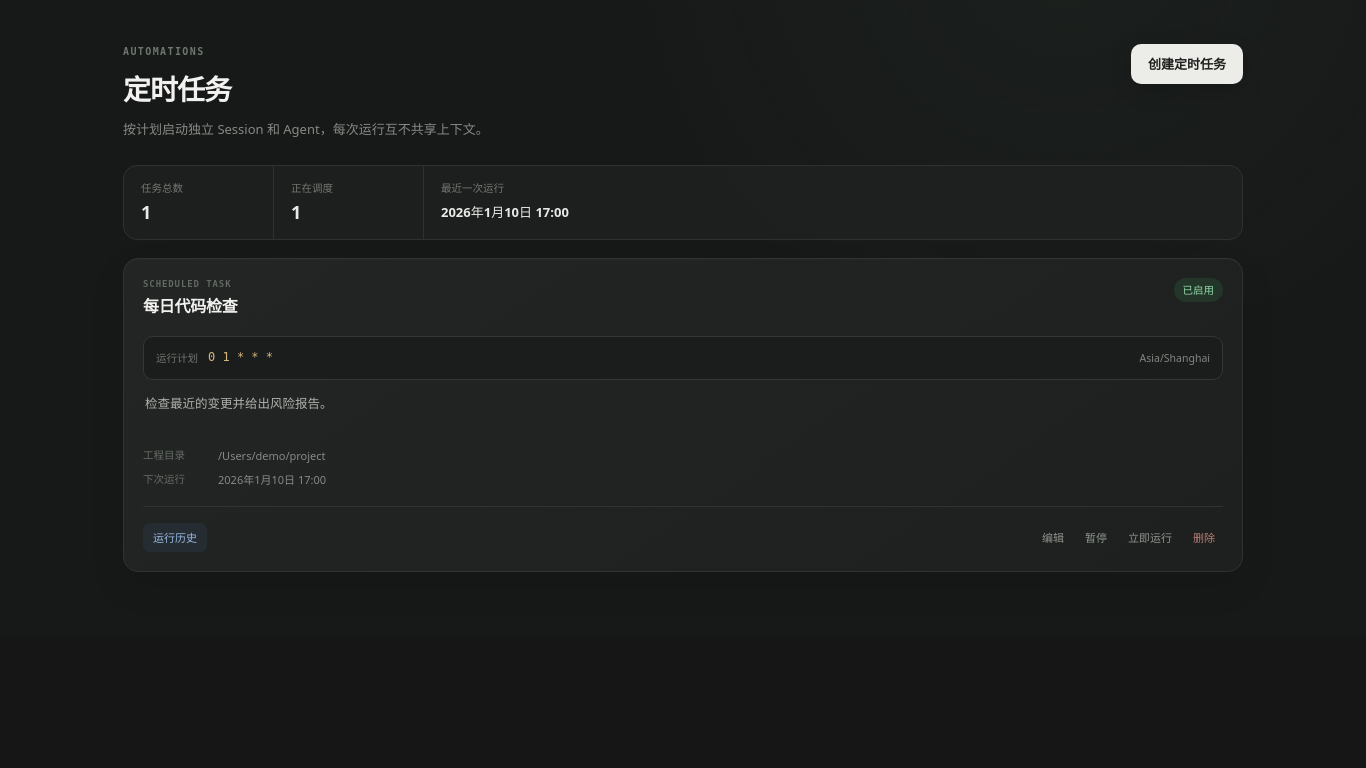
Test case: ScheduledTasksPage › opens run history from the task card instead of rendering it beside the list
expect the text "每日代码检查" is shown: met, box [143,294,238,319]
expect the text "Asia/Shanghai" is shown: met, box [1140,350,1210,366]
Step 1. Click the button "运行历史" → (175, 538), box [143,523,207,552]
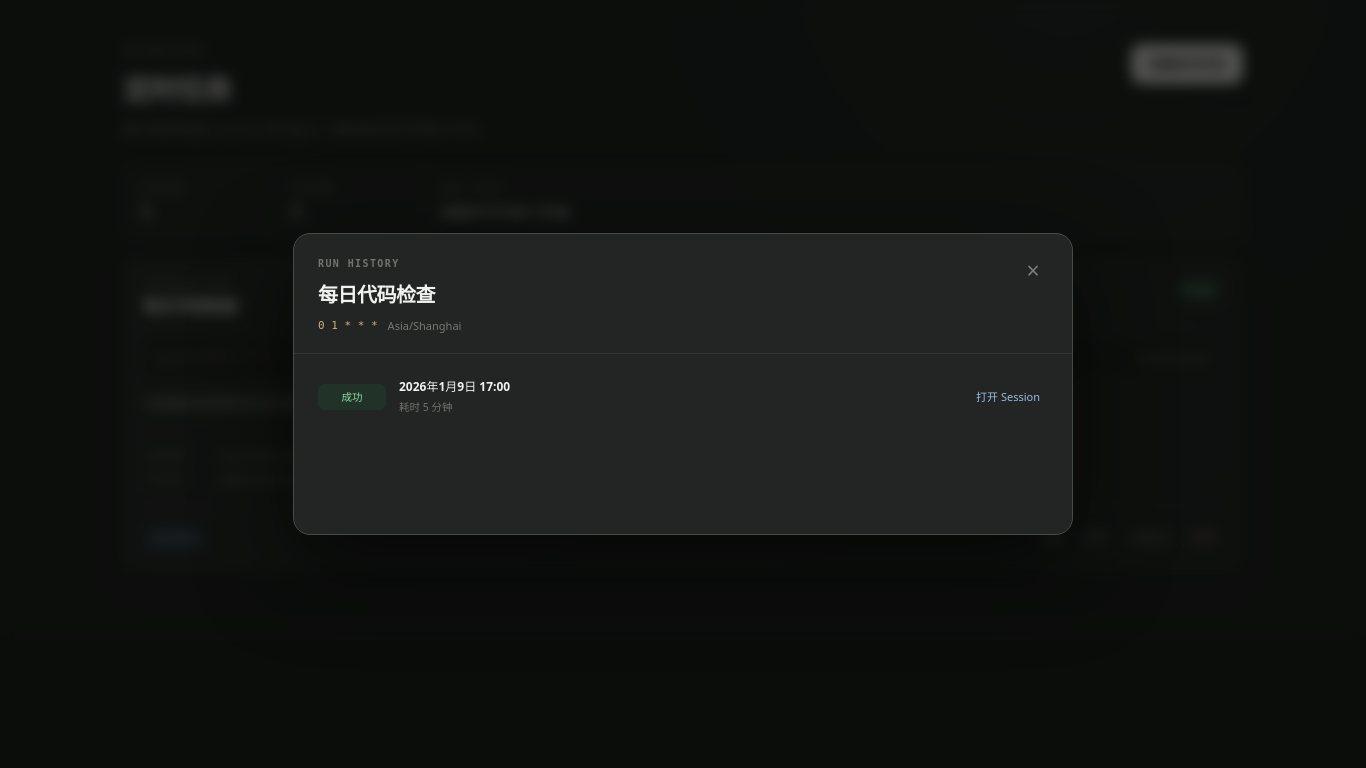
expect the dialog named "每日代码检查 运行历史" is shown: met, box [293,233,1073,535]
expect the text "成功" is shown: met, box [318,384,386,410]
